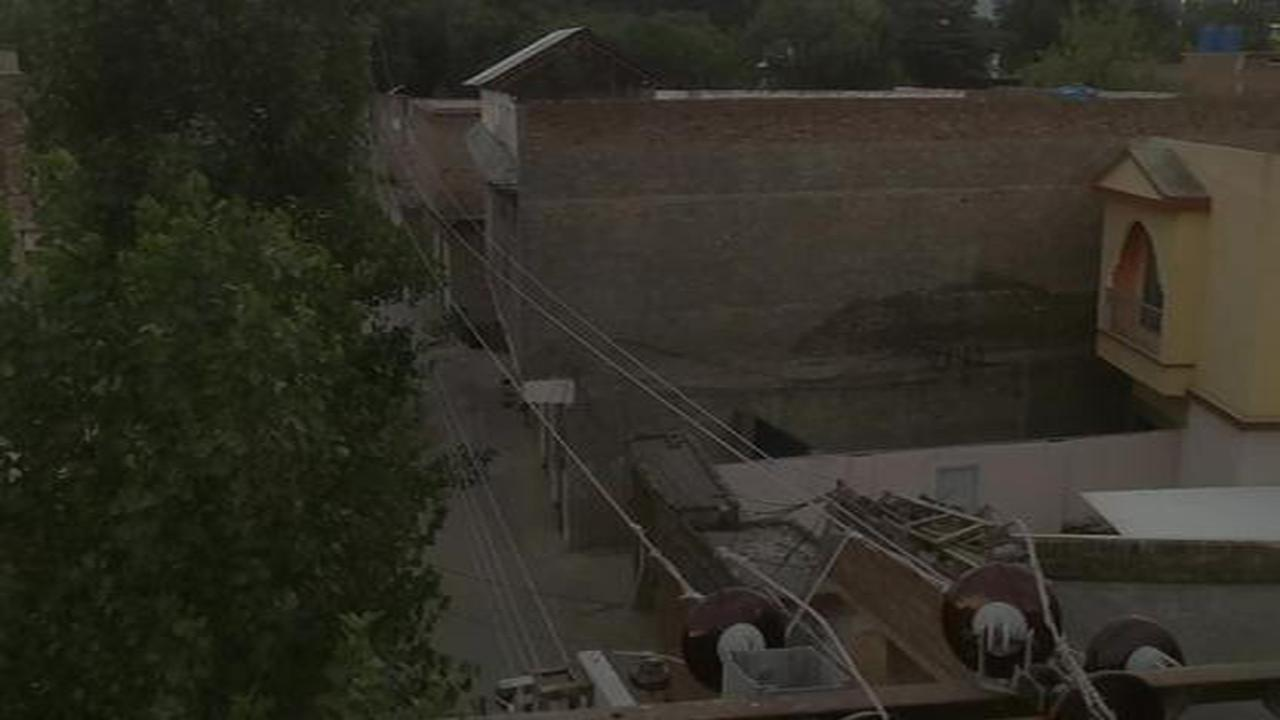insulator_disc: (936, 568, 1064, 671), (675, 590, 789, 681), (1086, 620, 1191, 678)
